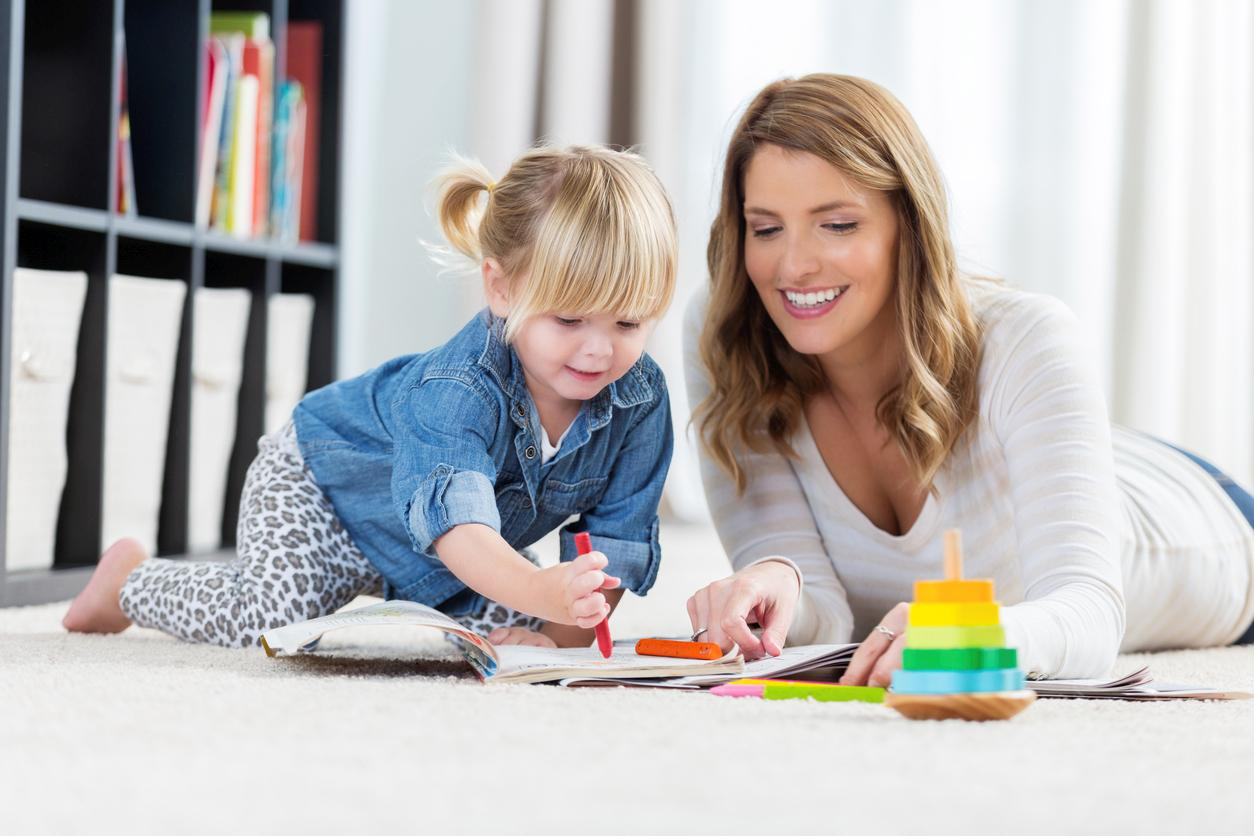without_mask: (736, 174, 894, 353), (507, 255, 658, 406)
